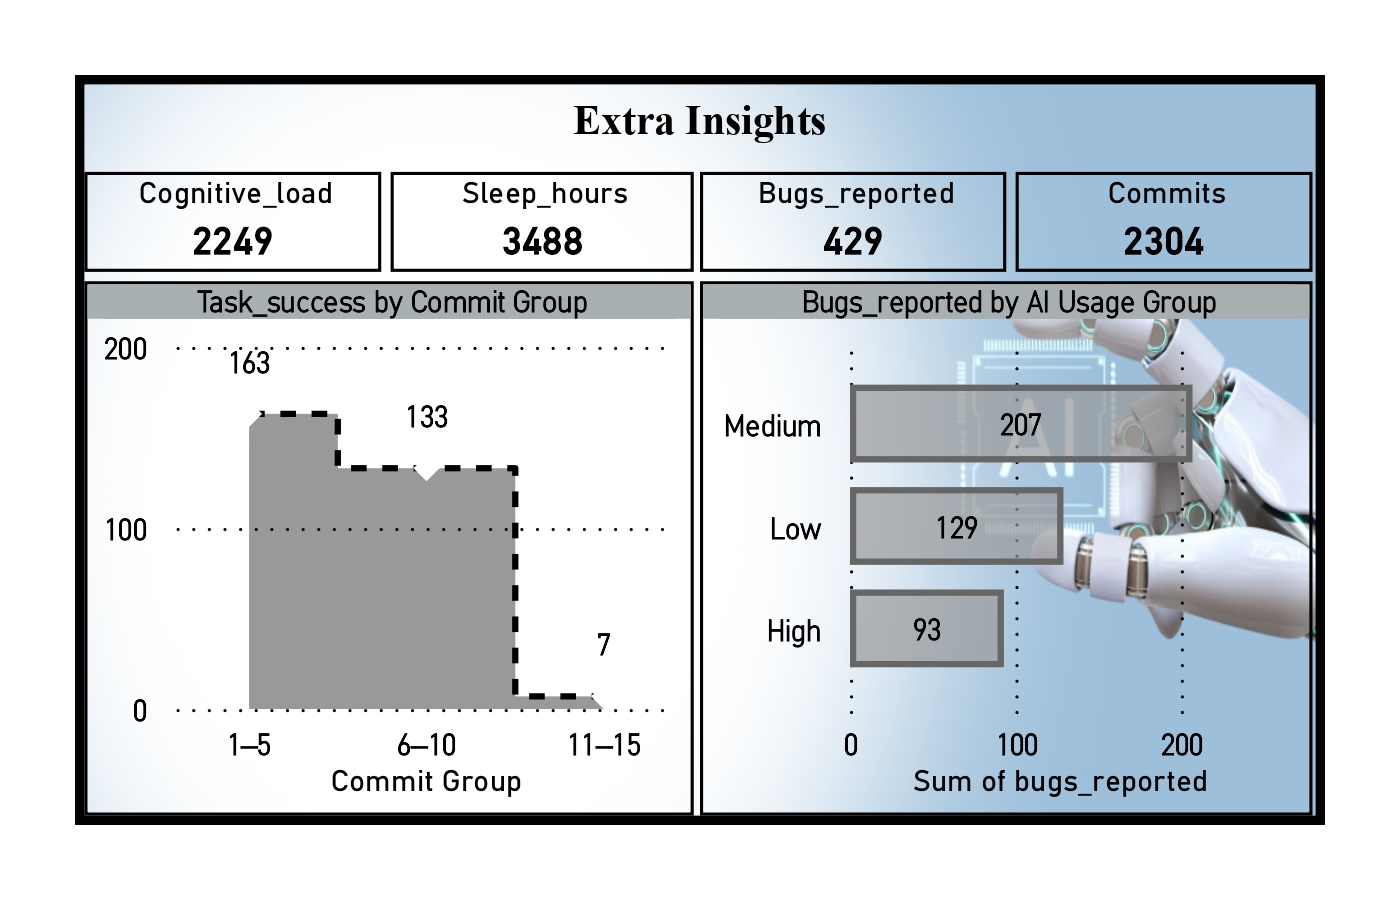

The page's visual inventory and layout, read from the dashboard file:
{"tool":"powerbi","page":{"name":"Tooltip_AI ","canvas":[400,240],"ordinal":4},"visuals":[{"type":"shape","box":[0,0,400,240],"z":0},{"type":"card","title":"Cognitive_load","fields":{"Values":["Sum(ai_dev_productivity (1).cognitive_load)"]},"box":[3.3,30.7,95,32.1],"z":1000},{"type":"card","title":"Sleep_hours","fields":{"Values":["Sum(ai_dev_productivity (1).sleep_hours)"]},"box":[100.6,30.7,97.8,32.1],"z":2000},{"type":"textbox","box":[124.4,0.5,151.2,30.2],"z":3000},{"type":"lineChart","title":"Task_success by Commit Group","fields":{"Category":["ai_dev_productivity (1).Commit Group"],"Y":["Sum(ai_dev_productivity (1).task_success)"]},"box":[3.3,66.1,195,170.6],"z":4000},{"type":"barChart","title":"Bugs_reported by AI Usage Group","fields":{"Y":["Sum(ai_dev_productivity (1).bugs_reported)"],"Category":["ai_dev_productivity (1).AI Usage Category"]},"box":[199.8,66.1,196.1,170.6],"z":5000},{"type":"card","title":"Bugs_reported","fields":{"Values":["Sum(ai_dev_productivity (1).bugs_reported)"]},"box":[199.8,30.7,97.8,32.1],"z":6000},{"type":"card","title":"Commits","fields":{"Values":["Sum(ai_dev_productivity (1).commits)"]},"box":[300.9,30.7,95,32.1],"z":7000}]}

Visuals, with their boxes on the page's 400x240 design canvas (x1, y1, x2, y2). These are canvas units, not pixel positions in the 1400x900 screenshot, which may show the page scaled, cropped or inside an application window:
shape: pyautogui.locateOnScreen(0, 0, 400, 240)
"Cognitive_load" card: pyautogui.locateOnScreen(3, 31, 98, 63)
"Sleep_hours" card: pyautogui.locateOnScreen(101, 31, 198, 63)
textbox: pyautogui.locateOnScreen(124, 0, 276, 31)
"Task_success by Commit Group" lineChart: pyautogui.locateOnScreen(3, 66, 198, 237)
"Bugs_reported by AI Usage Group" barChart: pyautogui.locateOnScreen(200, 66, 396, 237)
"Bugs_reported" card: pyautogui.locateOnScreen(200, 31, 298, 63)
"Commits" card: pyautogui.locateOnScreen(301, 31, 396, 63)
